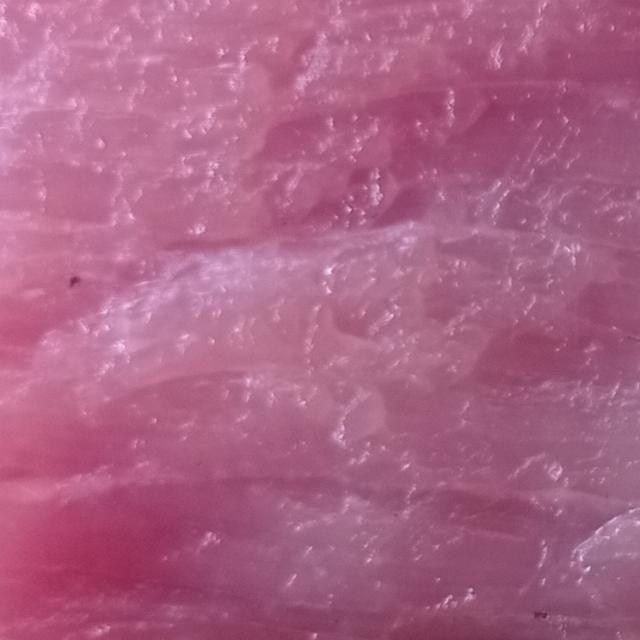Pork: (0, 1, 640, 640)
